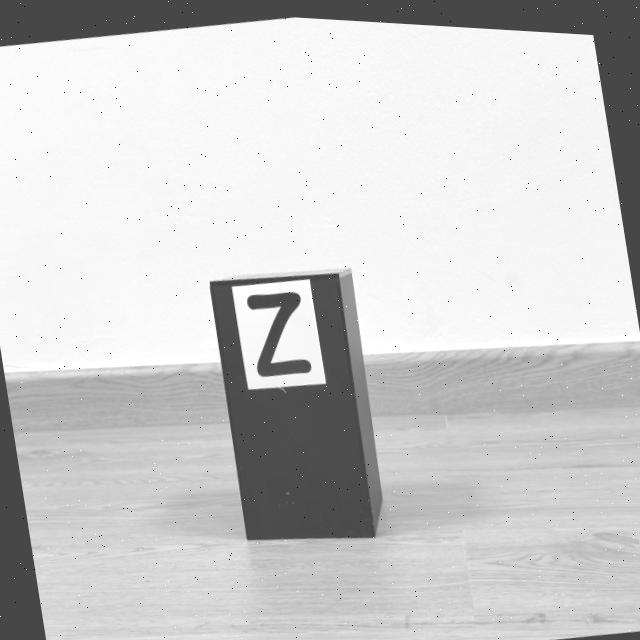Z: (247, 288, 312, 374)
